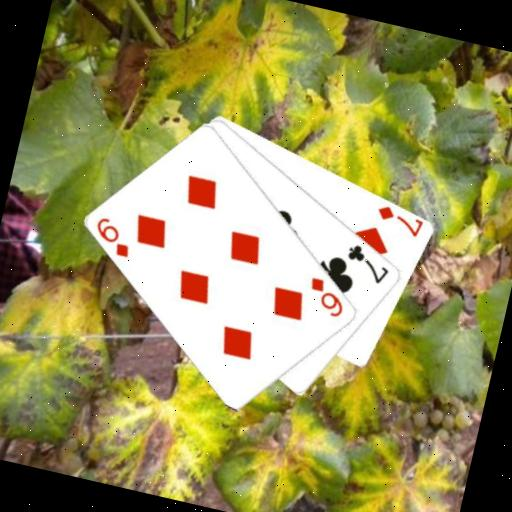6D: (301, 273, 351, 321), (89, 213, 139, 261)
7C: (339, 239, 395, 287)
7D: (371, 201, 427, 240)
